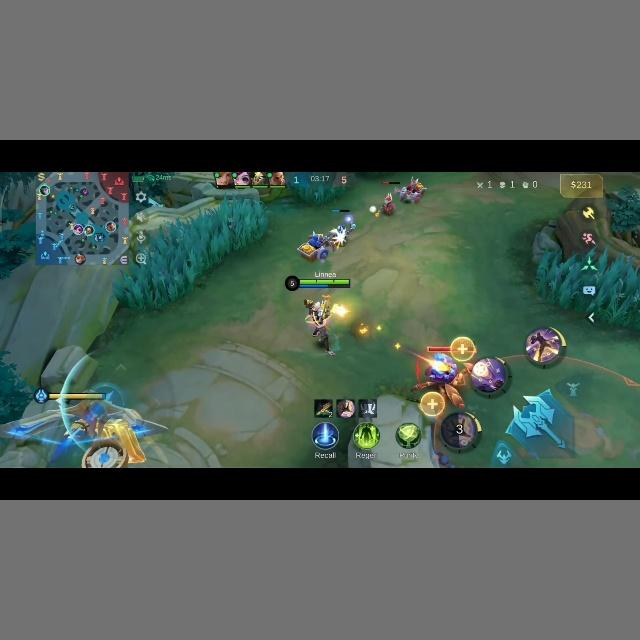hp_enemy: (404, 395, 421, 404), (382, 181, 400, 184)
hp_self: (31, 387, 110, 404), (284, 274, 352, 289), (331, 209, 350, 212)
minion_ally: (296, 221, 355, 263)
minion_enemy: (394, 176, 427, 204), (376, 191, 395, 216)
money_crab: (410, 352, 467, 409)
turret_ally: (61, 392, 106, 440)
